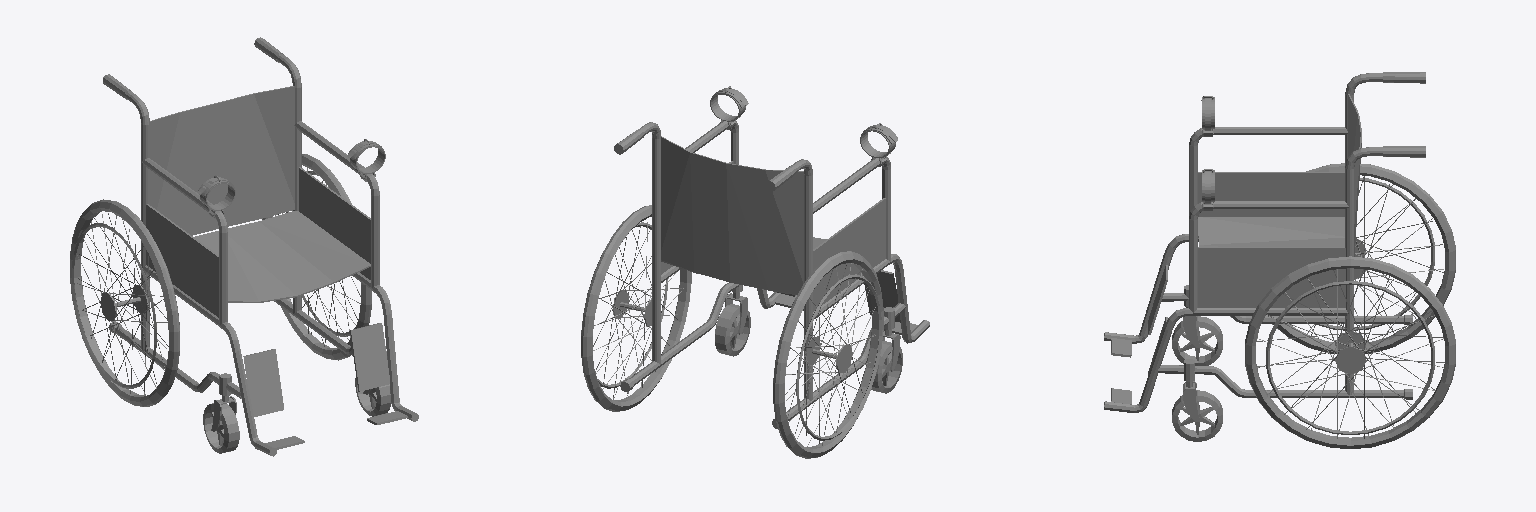
The model's file is Wheelchair.obj.
3 renders of one model, left to right at view 1: azimuth 30°, elevation 25°; view 2: azimuth 150°, elevation 25°; view 3: azimuth 270°, elevation 25°, orthographic.
Visible parts, largest first — view 1: SMDImport; view 2: SMDImport; view 3: SMDImport.
Boxes of the visible parts, <box> form: SMDImport: <box>70,37,418,456</box>; SMDImport: <box>581,86,929,458</box>; SMDImport: <box>1104,72,1455,448</box>.
Bounding box in the file's own units: 30.13 × 37.47 × 40.93.